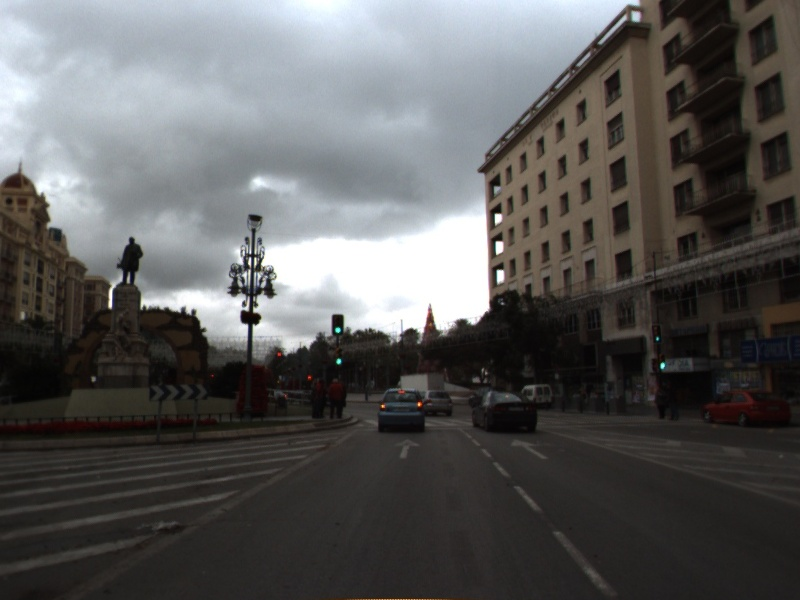STRAIGHT: (508, 437, 552, 461), (391, 436, 423, 461)
